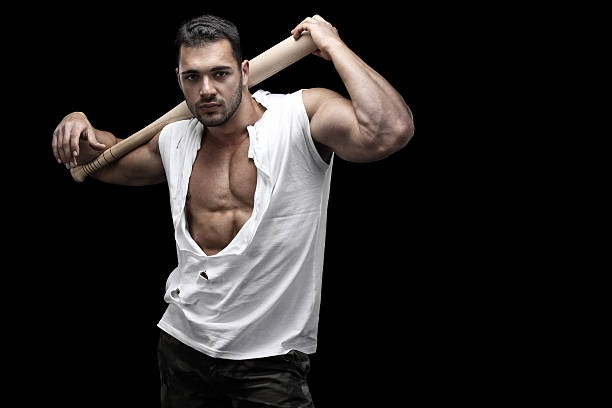bita: (69, 99, 190, 184), (242, 19, 324, 90)
